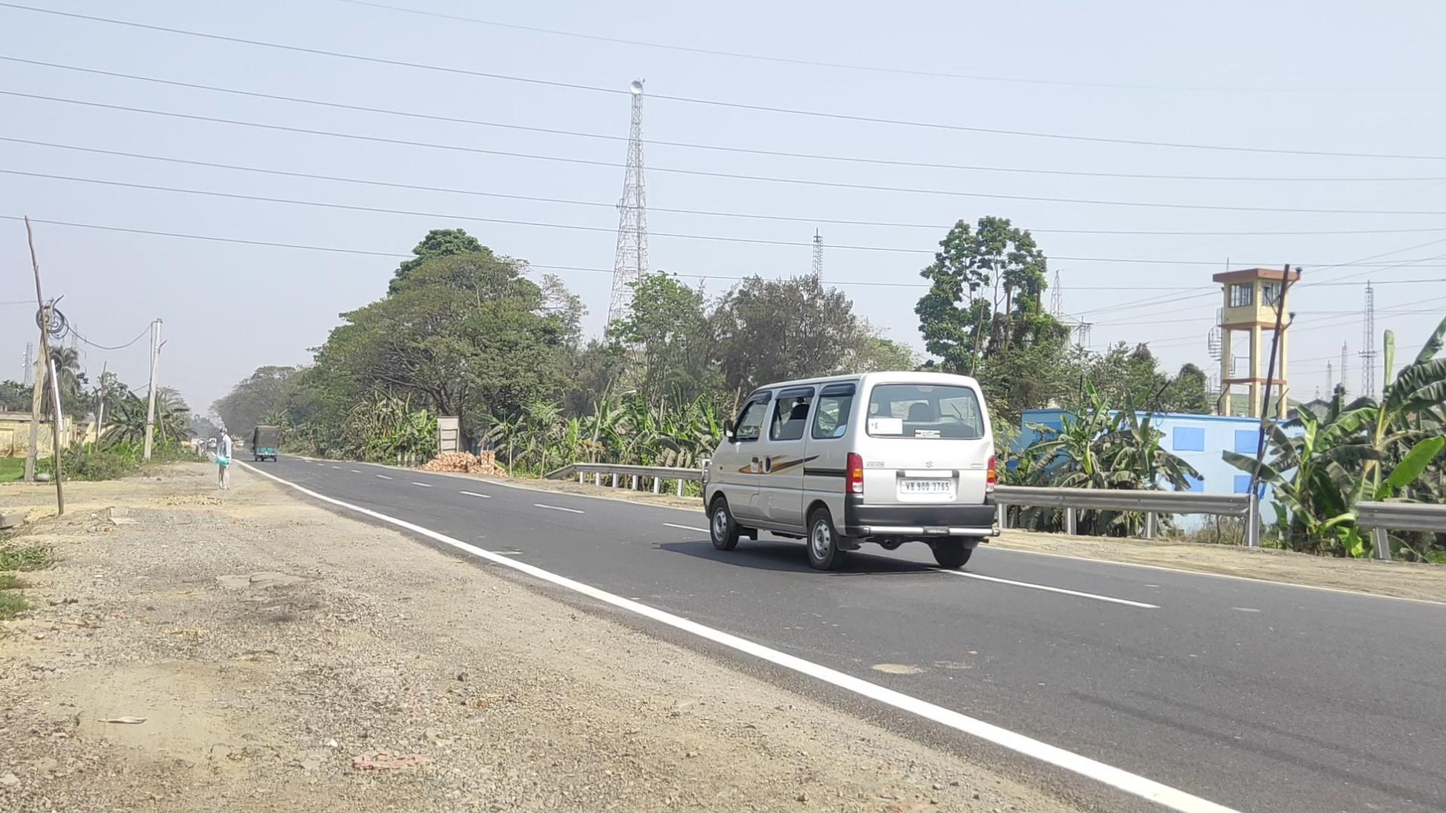Auto: (252, 425, 279, 461)
van: (701, 370, 1003, 573)
